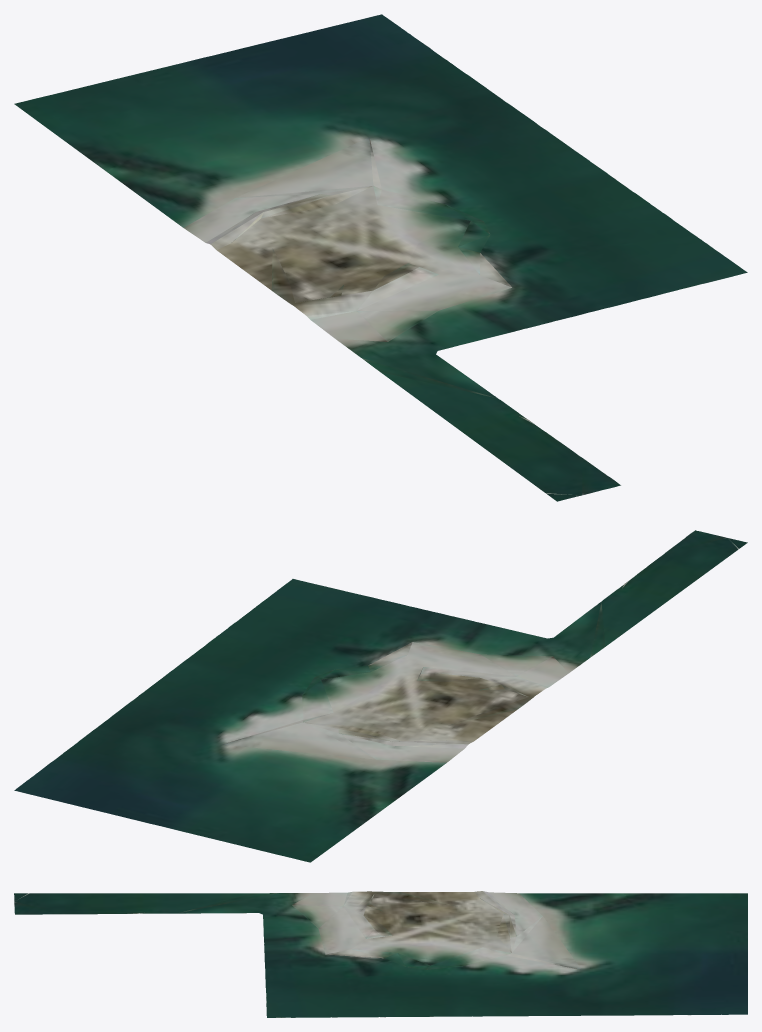
The picture shows the model from 3 angles, top to bottom: view 1: azimuth 30°, elevation 25°; view 2: azimuth 150°, elevation 25°; view 3: azimuth 270°, elevation 25°; orthographic projection. The views are drawn at different scales.
Bounding box in the file's own units: 1189 × 13.41 × 2959.
1 material, 1 textured.
